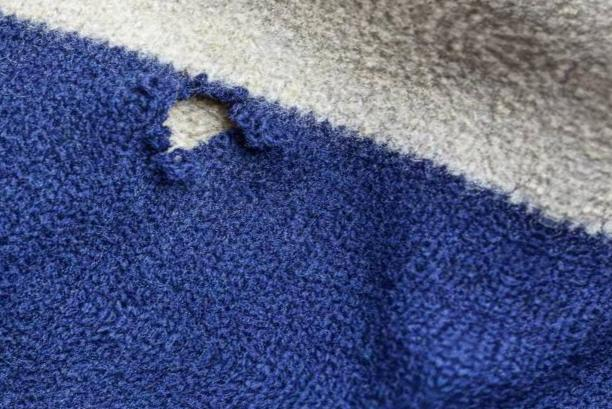hole: (150, 86, 247, 166)
